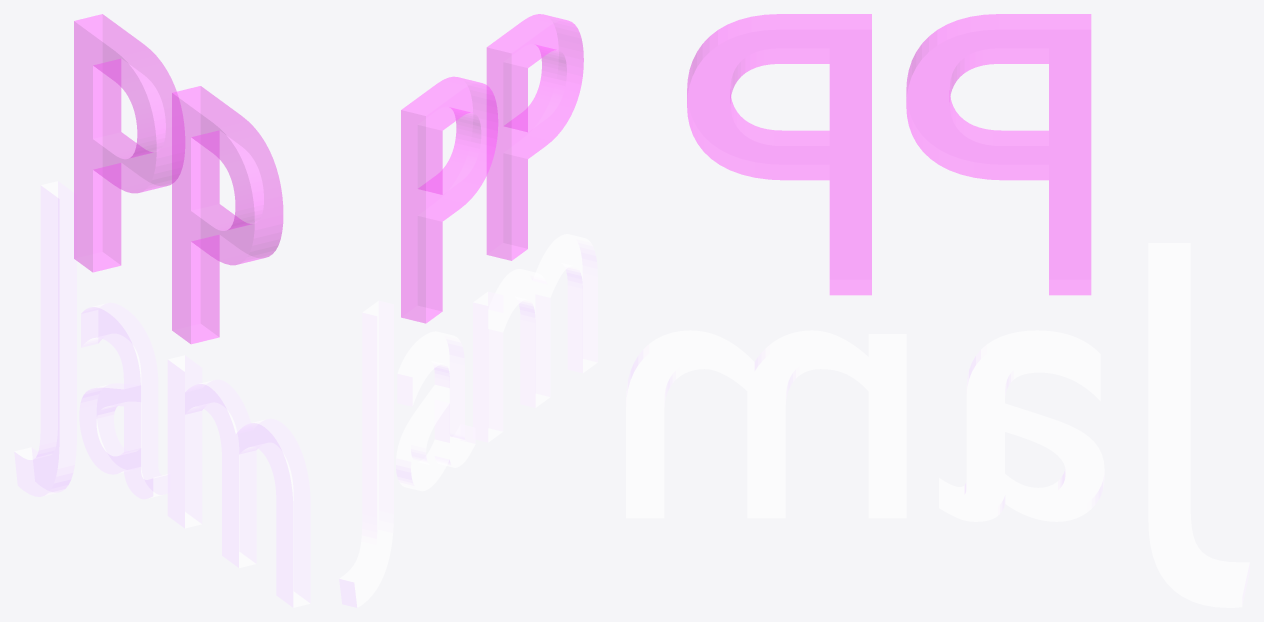
File: PPJam.fbx
The picture shows the model from 3 angles, left to right: view 1: azimuth 30°, elevation 25°; view 2: azimuth 150°, elevation 25°; view 3: azimuth 270°, elevation 25°; orthographic projection. The views are drawn at different scales.
Visible parts, largest first — view 1: Text; view 2: Text; view 3: Text.
Part boxes in pixels (<box>): Text: <box>14,14,310,607</box>; Text: <box>339,14,597,607</box>; Text: <box>626,14,1249,607</box>.
Size of the model in its own units: 109 by 1879 by 1837.
